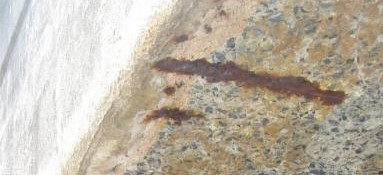Exposed reinforcement: (149, 56, 349, 106), (141, 107, 206, 123)
Spalling: (61, 1, 383, 175)
